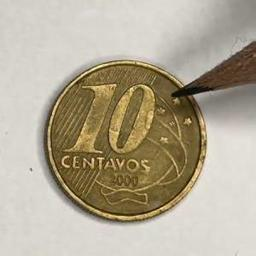10 cent: (44, 58, 207, 221)
